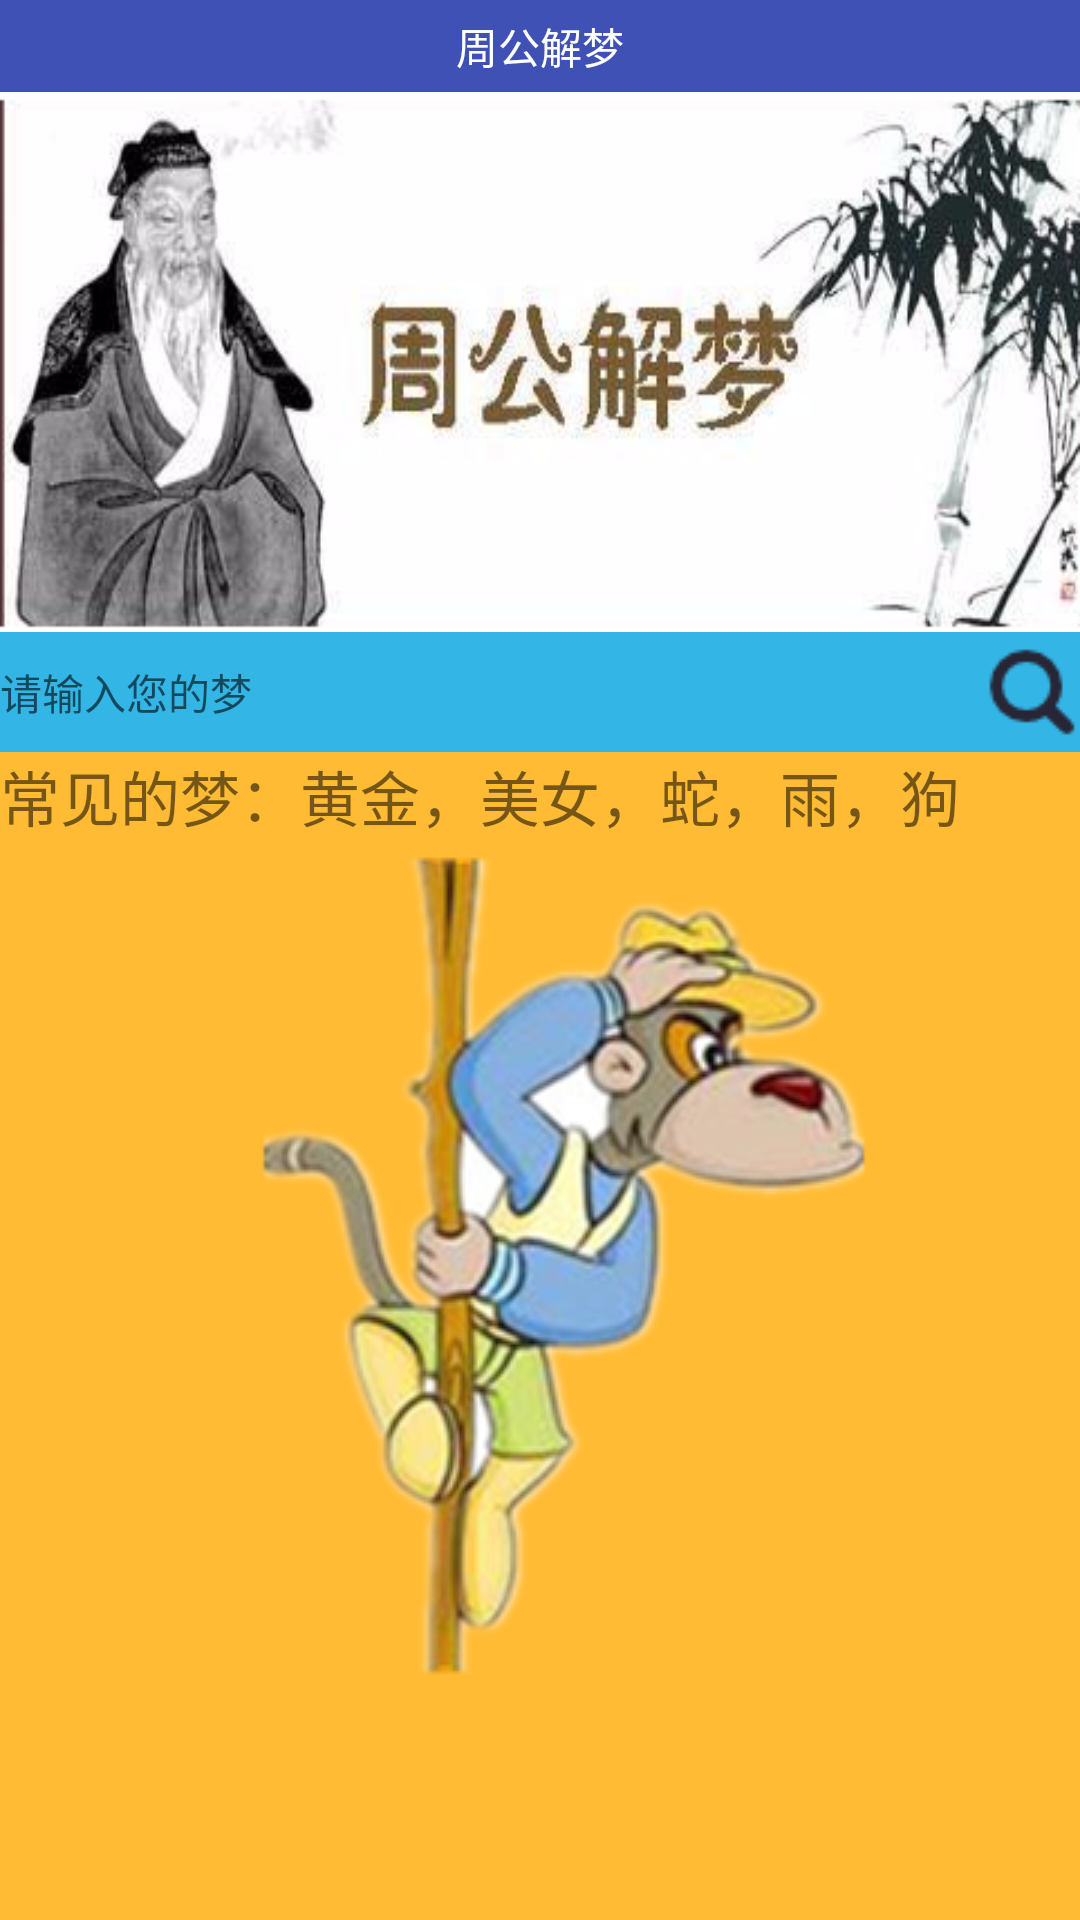

Icons on this 1080x1920 Android screen, each with its box as (x1, y1, x2, y2):
search: (989, 649, 1075, 735)
